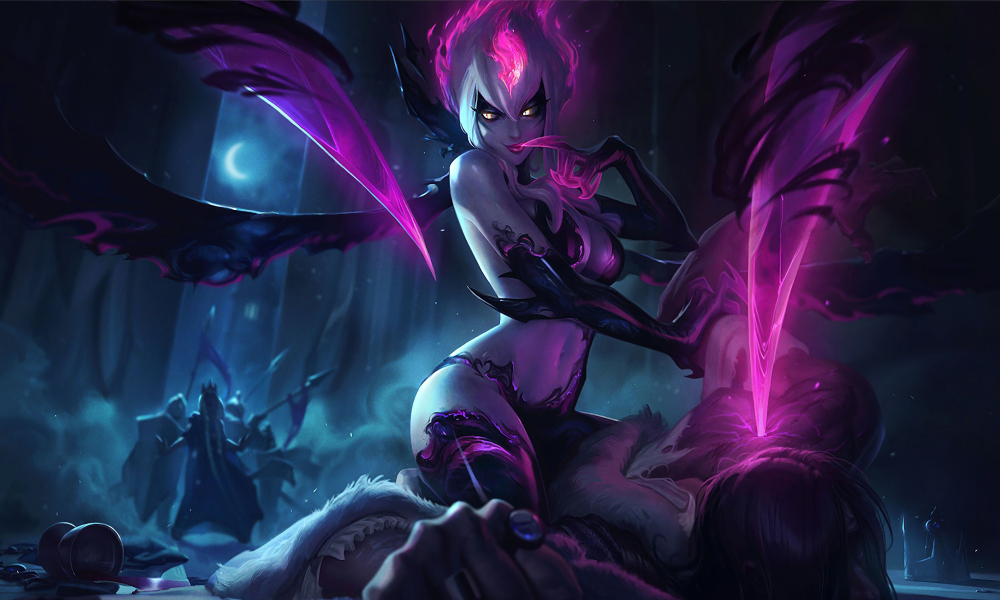face: (396, 1, 603, 175)
